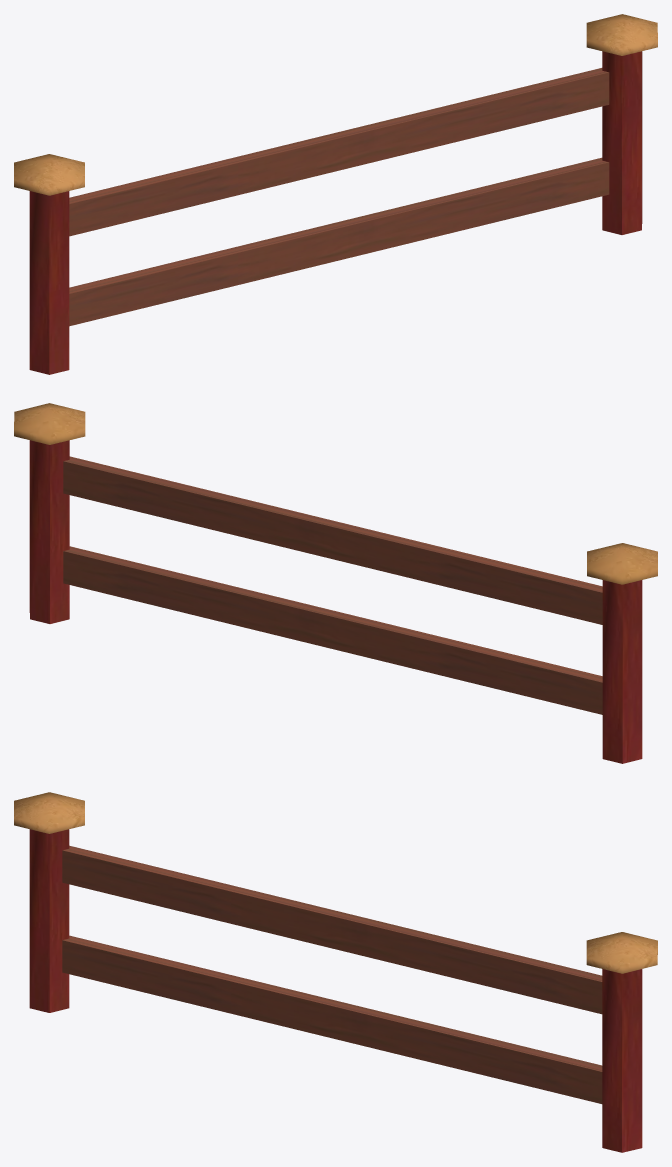
The model's file is pm-fence-01-2.glb.
The picture shows the model from 3 angles, top to bottom: view 1: azimuth 30°, elevation 25°; view 2: azimuth 150°, elevation 25°; view 3: azimuth 330°, elevation 25°; orthographic projection.
Parts seen in each view (by area): view 1: Fence01; view 2: Fence01; view 3: Fence01.
Boxes of the visible parts, <box> form: Fence01: <box>14,14,657,374</box>; Fence01: <box>14,403,657,763</box>; Fence01: <box>14,792,657,1152</box>.
Size of the model in its own units: 6.11 by 1.86 by 0.5836.
3 materials, 3 textured.
